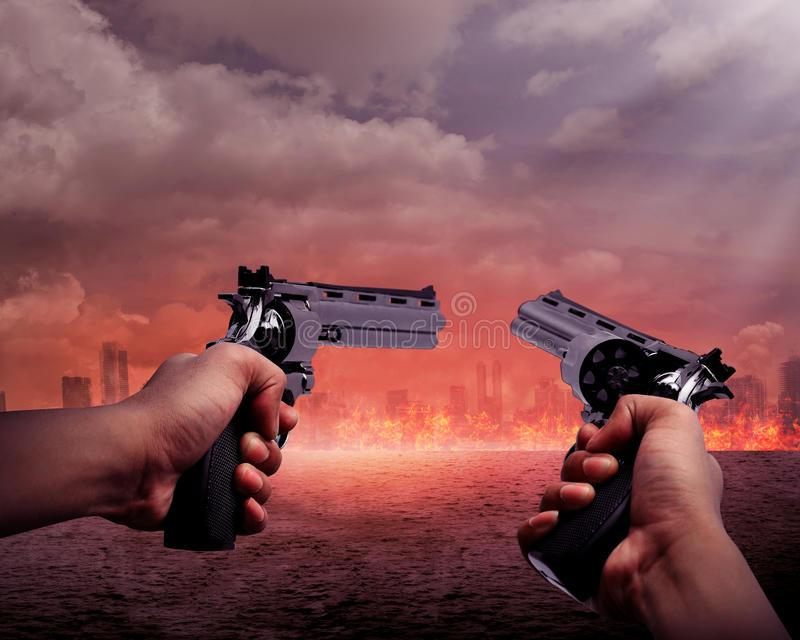weapon: (158, 257, 449, 556), (506, 289, 737, 605)
